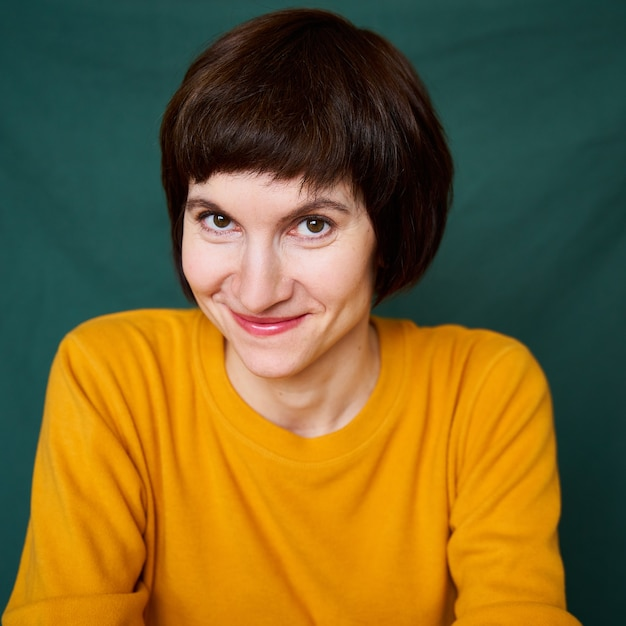teen: (141, 15, 450, 373)
